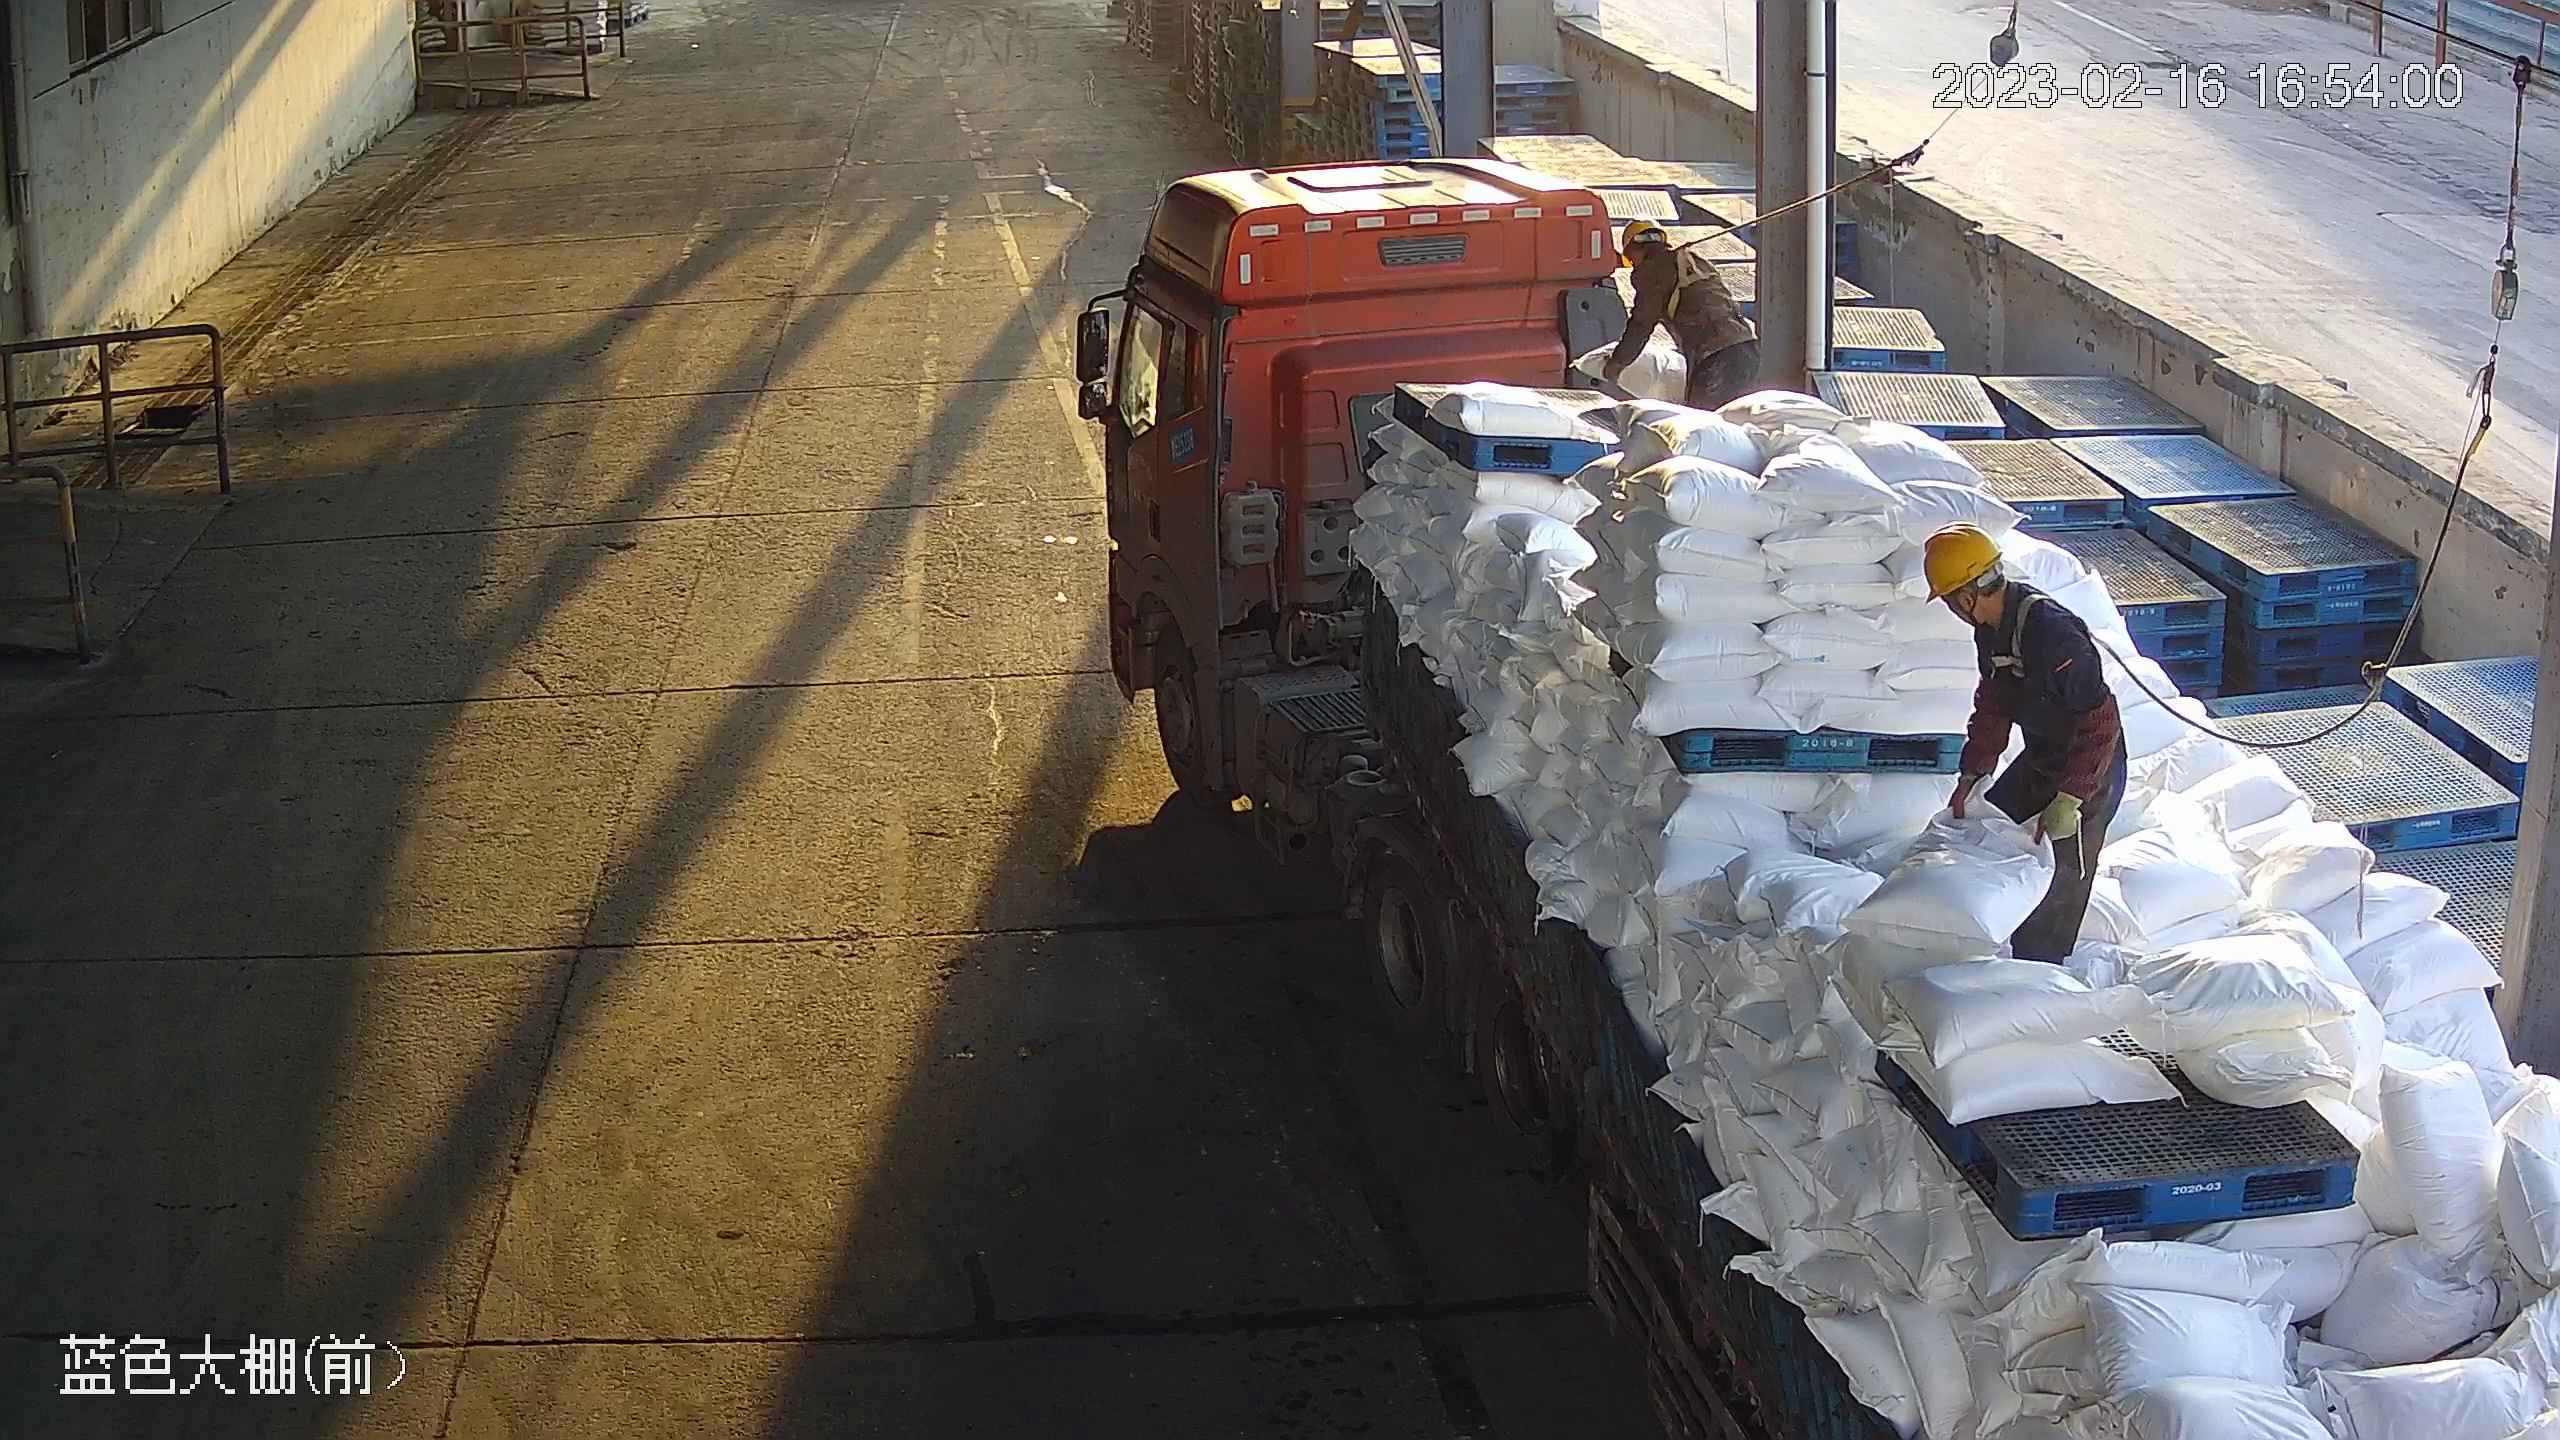belt: (1973, 595, 2066, 672), (1654, 249, 1722, 316)
head: (1920, 527, 2081, 657), (1609, 218, 1706, 283)
helmet: (1920, 525, 2004, 601), (1614, 218, 1667, 265)
people: (1921, 527, 2127, 972), (1600, 216, 1769, 418)
truck: (1058, 155, 2560, 1440)
